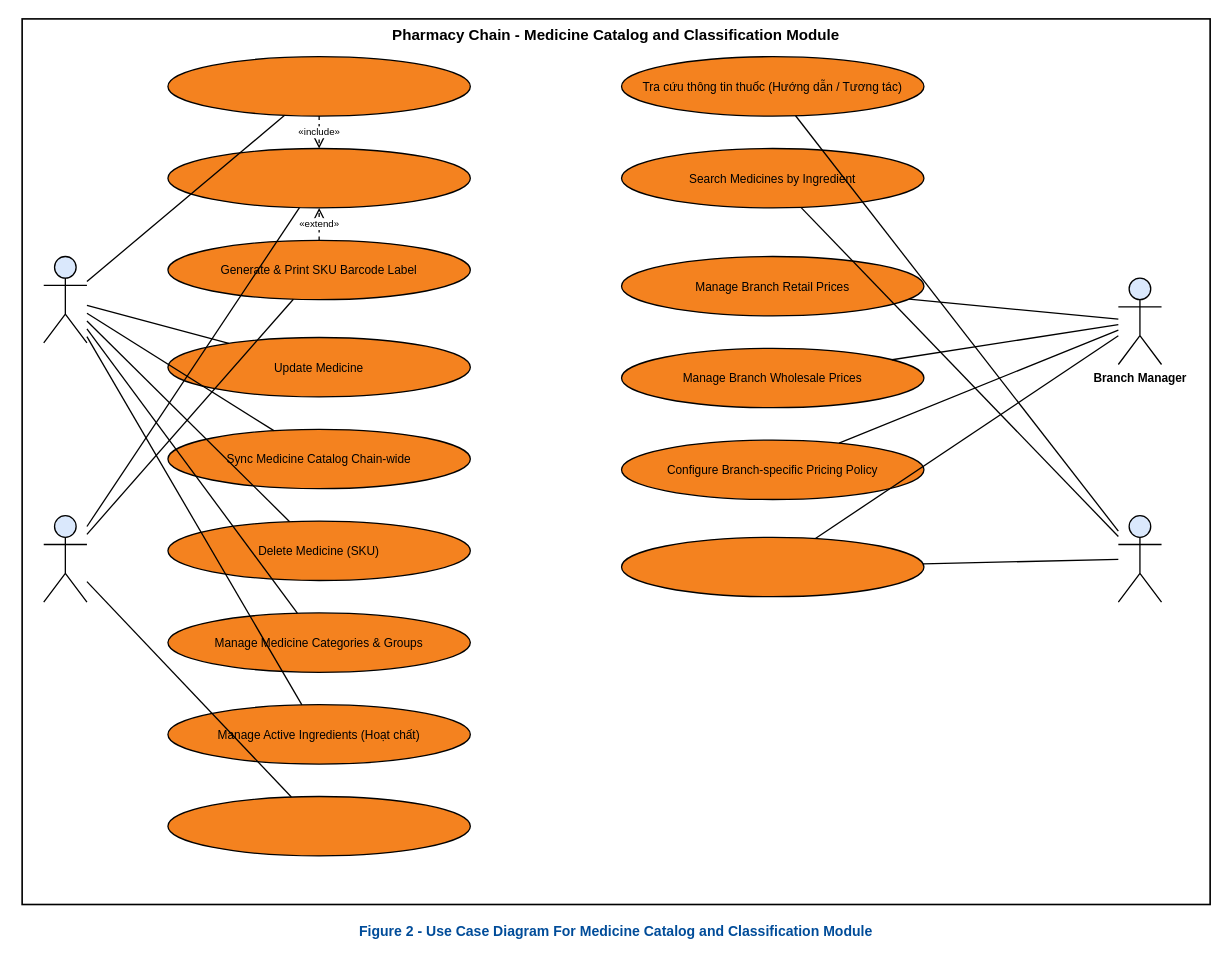
This 1230x967 diagram has some shape labels left out. Here are the shapes that lost their labels. From the top down, the centre of each, then its label:
At pixel 318 86: "Add Medicine (SKU)".
At pixel 318 177: "Link QR/Barcode to SKU".
At pixel 65 299: "Admin".
At pixel 65 558: "Warehouse Staff".
At pixel 772 566: "View Medicine Catalog".
At pixel 1139 558: "Pharmacist".
At pixel 318 825: "Configure Unit Conversions (viên - vỉ - hộp)".
